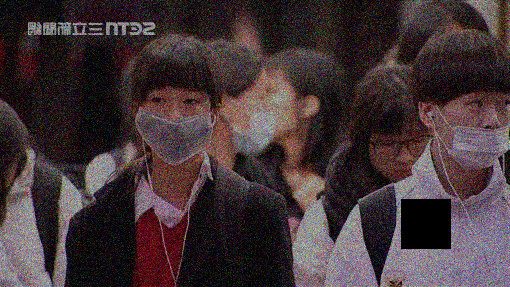mask_weared_incorrect: (434, 95, 509, 172)
with_mask: (134, 91, 213, 169), (232, 85, 279, 159)
without_mask: (368, 128, 434, 185)
